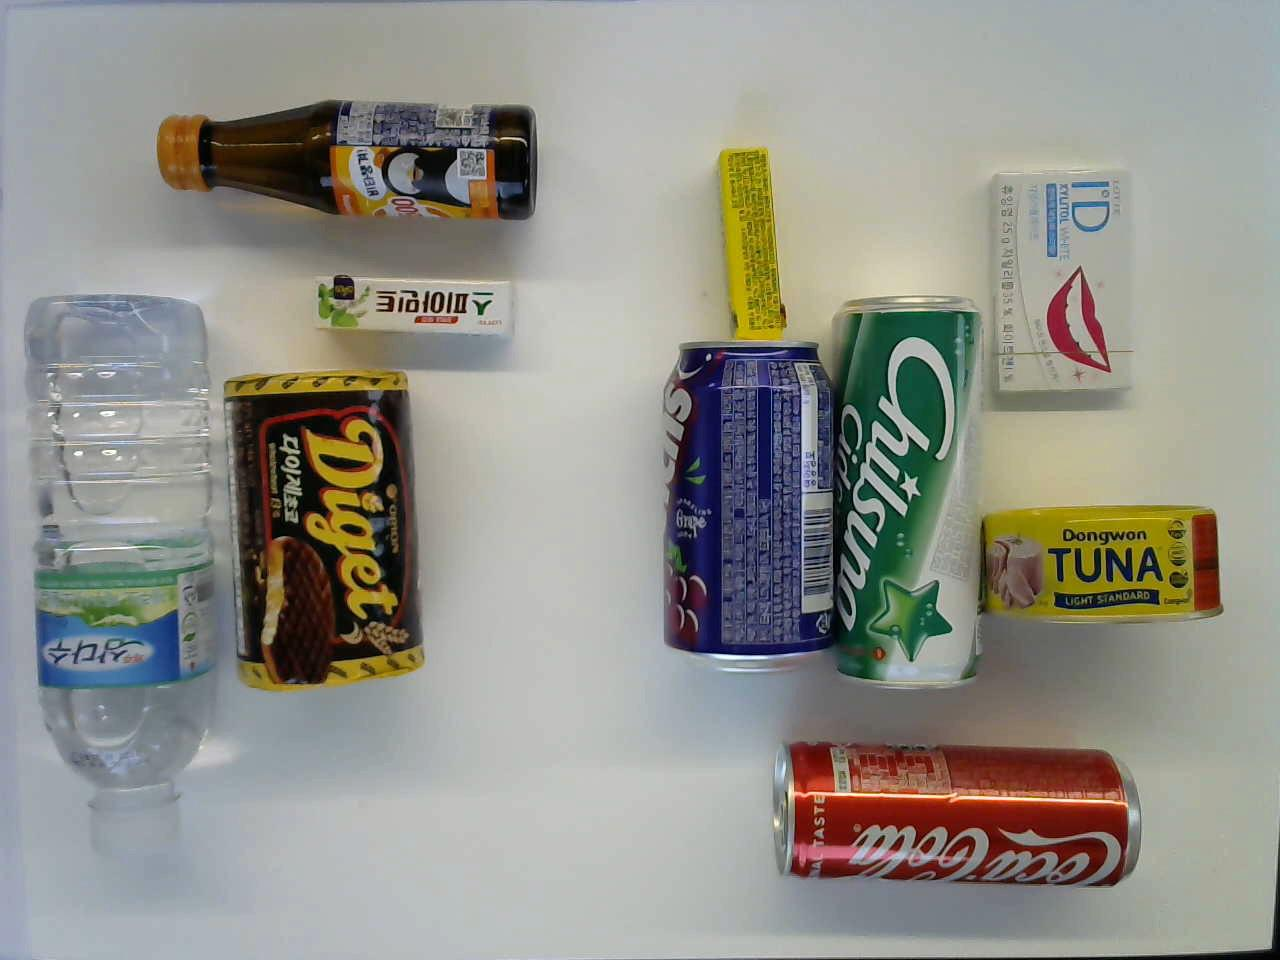ID_gum: (988, 163, 1135, 399)
cidar: (825, 283, 992, 701)
coke: (757, 734, 1163, 903)
diget_choco: (230, 368, 422, 701)
juicyfresh: (711, 141, 797, 339)
samdasu: (14, 296, 218, 861)
spearmint: (310, 268, 529, 354)
tuna: (978, 494, 1236, 655)
vita500: (145, 93, 546, 238)
welchs: (665, 338, 839, 668)
